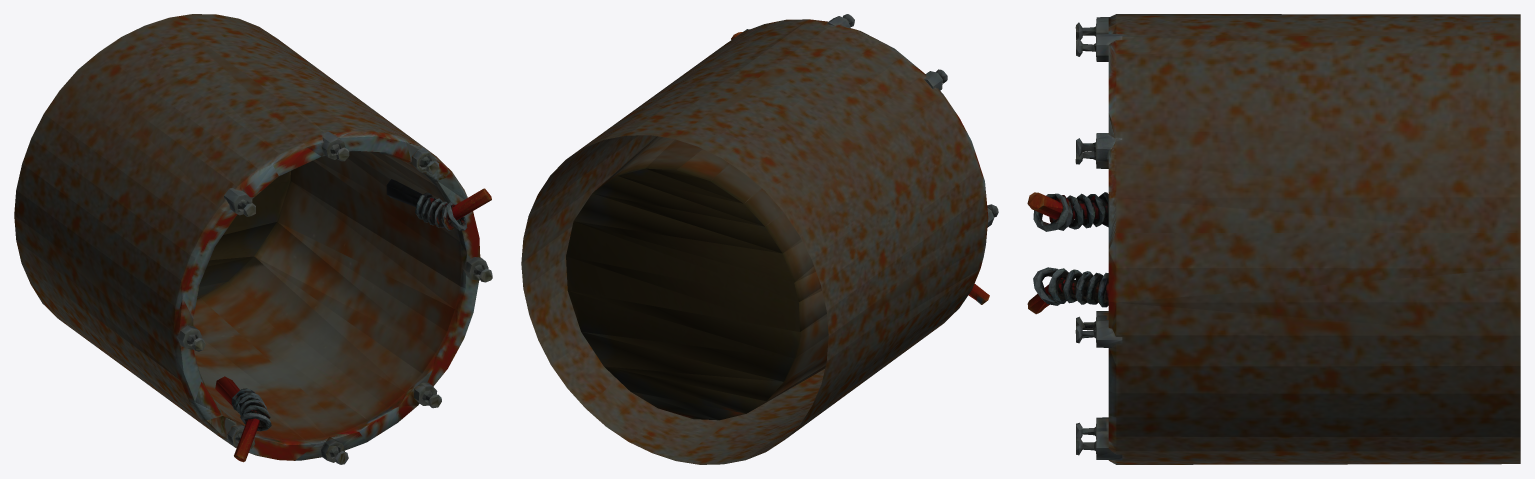
File: roof_rack.glb
3 renders of one model, left to right at view 1: azimuth 30°, elevation 25°; view 2: azimuth 150°, elevation 25°; view 3: azimuth 270°, elevation 25°, orthographic. The views are drawn at different scales.
Visible parts, largest first — view 1: tripo_node_cfb36fc8-aa90-47b9-958c-45e5dc00f96e; view 2: tripo_node_cfb36fc8-aa90-47b9-958c-45e5dc00f96e; view 3: tripo_node_cfb36fc8-aa90-47b9-958c-45e5dc00f96e.
Part boxes in pixels (<box>): tripo_node_cfb36fc8-aa90-47b9-958c-45e5dc00f96e: <box>14,14,492,464</box>; tripo_node_cfb36fc8-aa90-47b9-958c-45e5dc00f96e: <box>521,14,998,464</box>; tripo_node_cfb36fc8-aa90-47b9-958c-45e5dc00f96e: <box>1027,14,1520,464</box>.
Size of the model in its own units: 0.9121 by 0.916 by 0.9985.
Materials: 1 (1 with a texture image).
